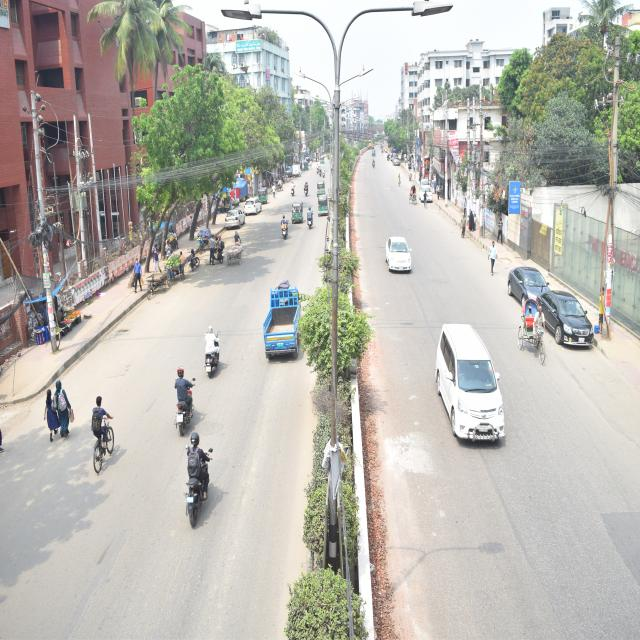car: (538, 289, 598, 350), (507, 259, 554, 300), (382, 232, 418, 278), (224, 208, 246, 233), (242, 194, 263, 218), (419, 182, 434, 206)
microbus: (435, 321, 509, 447)
motorbike: (182, 448, 214, 533), (171, 379, 197, 438), (200, 333, 222, 382), (277, 216, 291, 243), (287, 177, 297, 198), (306, 208, 314, 234), (301, 177, 310, 198)
pickup-van: (265, 282, 303, 359)
